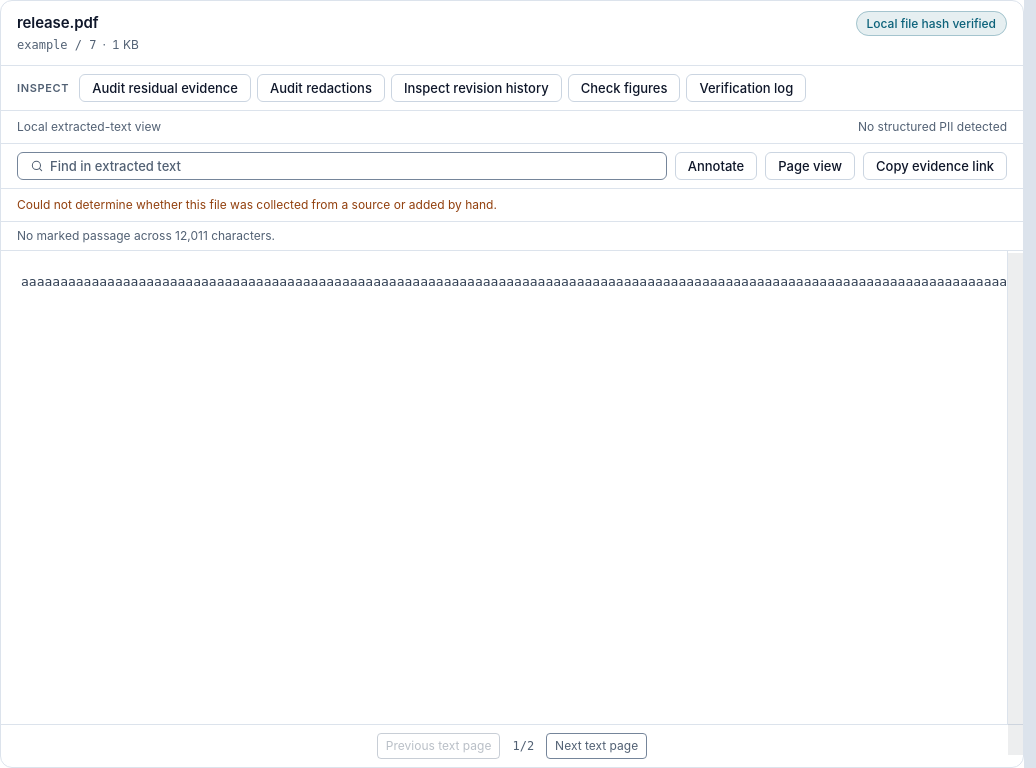
Scenario: document evidence navigation › paginates a large extracted-text chunk instead of mounting it all at once
Expected: the text "SECOND_PAGE" is not shown
Click the button "Next text page": (597, 746) [546, 733, 647, 759]
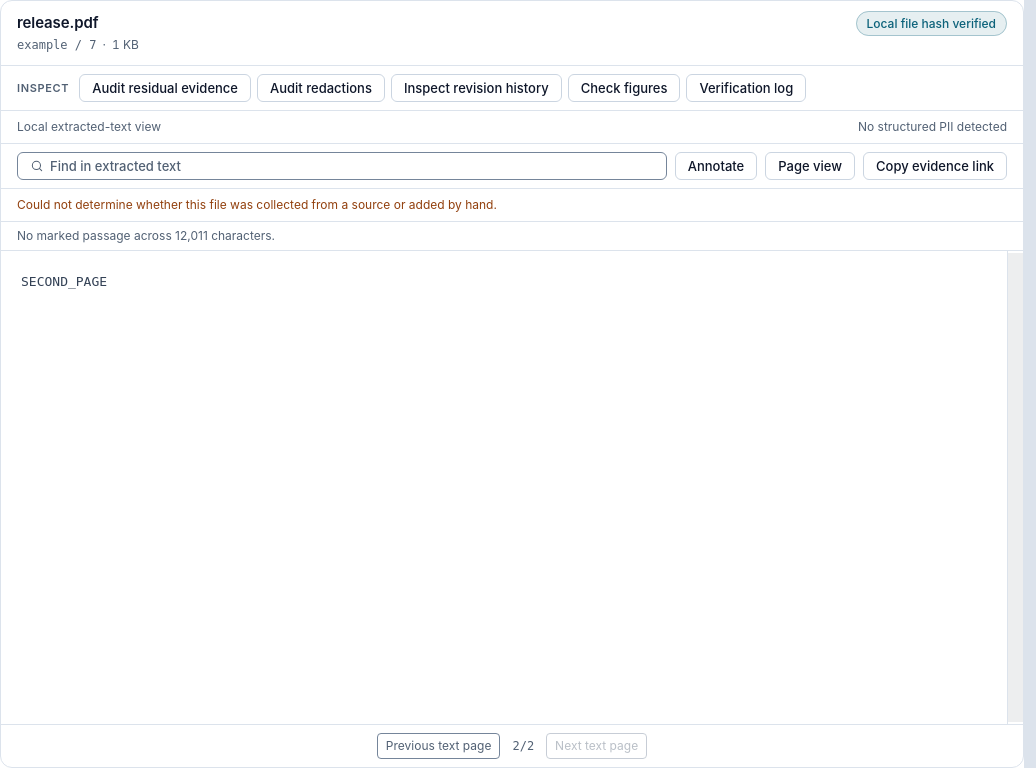
Now the text "SECOND_PAGE" is shown, box [21, 274, 107, 289]
